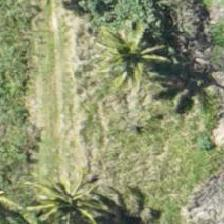coconut_tree: (88, 0, 178, 88), (32, 175, 122, 223)
